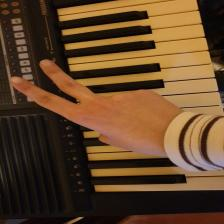two: (8, 57, 190, 155)
